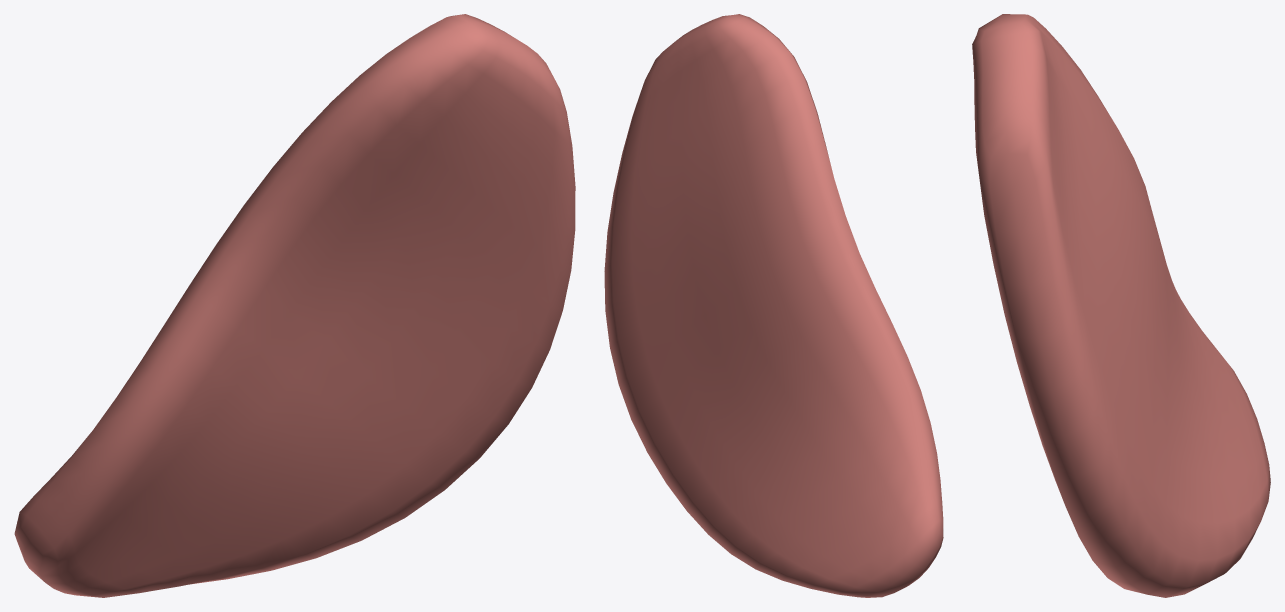
3 views of the same model, side by side, from view 1: azimuth 30°, elevation 25°; view 2: azimuth 150°, elevation 25°; view 3: azimuth 270°, elevation 25° (orthographic). The views are drawn at different scales.
Visible parts, largest first — view 1: ZA_e70ca6ec781f80ca; view 2: ZA_e70ca6ec781f80ca; view 3: ZA_e70ca6ec781f80ca.
Boxes of the visible parts, x1,y1,x2,y2 form: ZA_e70ca6ec781f80ca: [14, 14, 575, 597]; ZA_e70ca6ec781f80ca: [604, 14, 943, 597]; ZA_e70ca6ec781f80ca: [972, 14, 1270, 597].
Size of the model in its own units: 0.0157 by 0.0186 by 0.0081.
